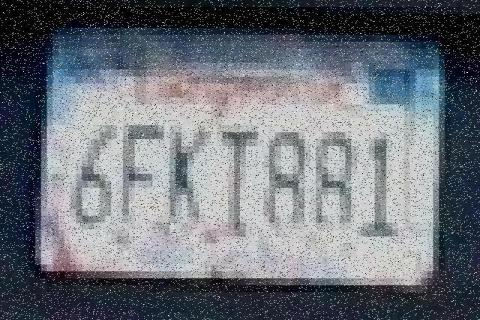LicensePlate: (31, 11, 449, 289)
